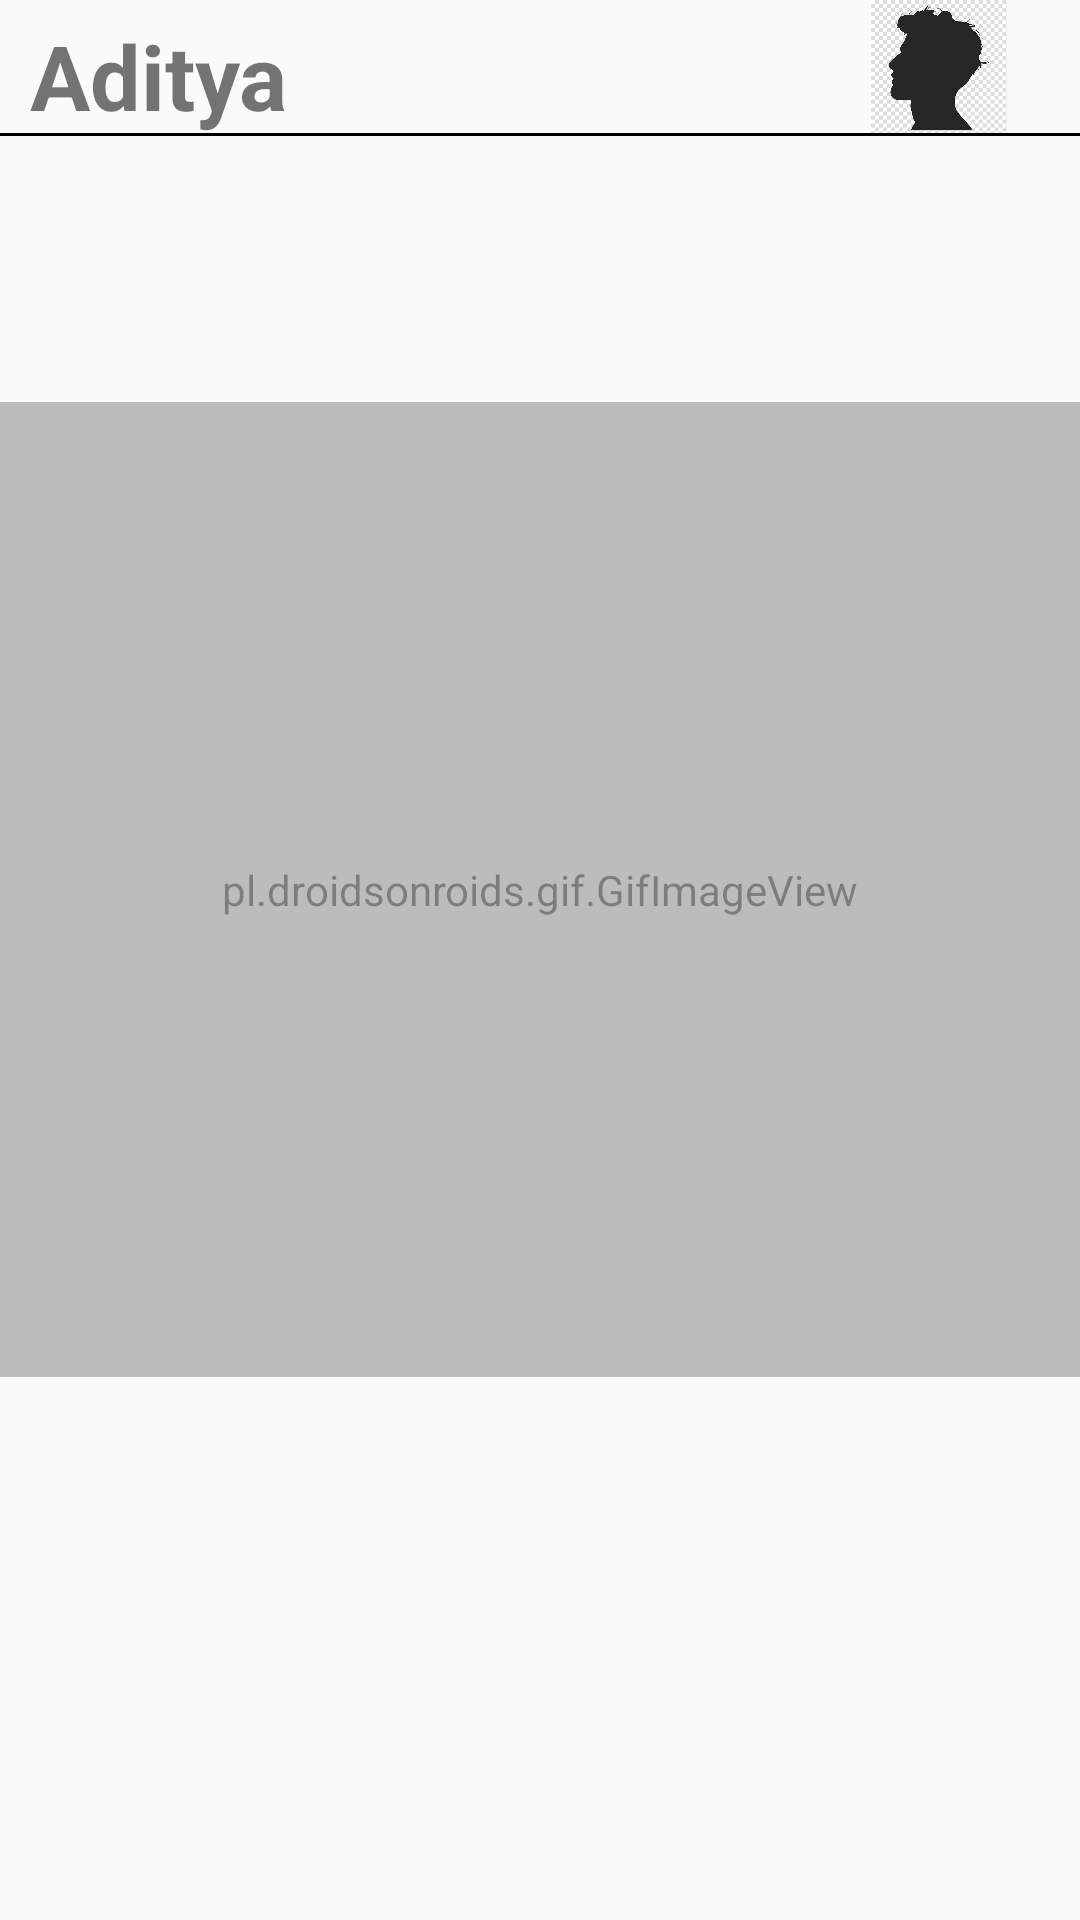

Locate icon controls on the screen. Image size 1080px×1920px, boxes as (x1, y1, x2, y2).
profile: (871, 0, 1006, 131)
